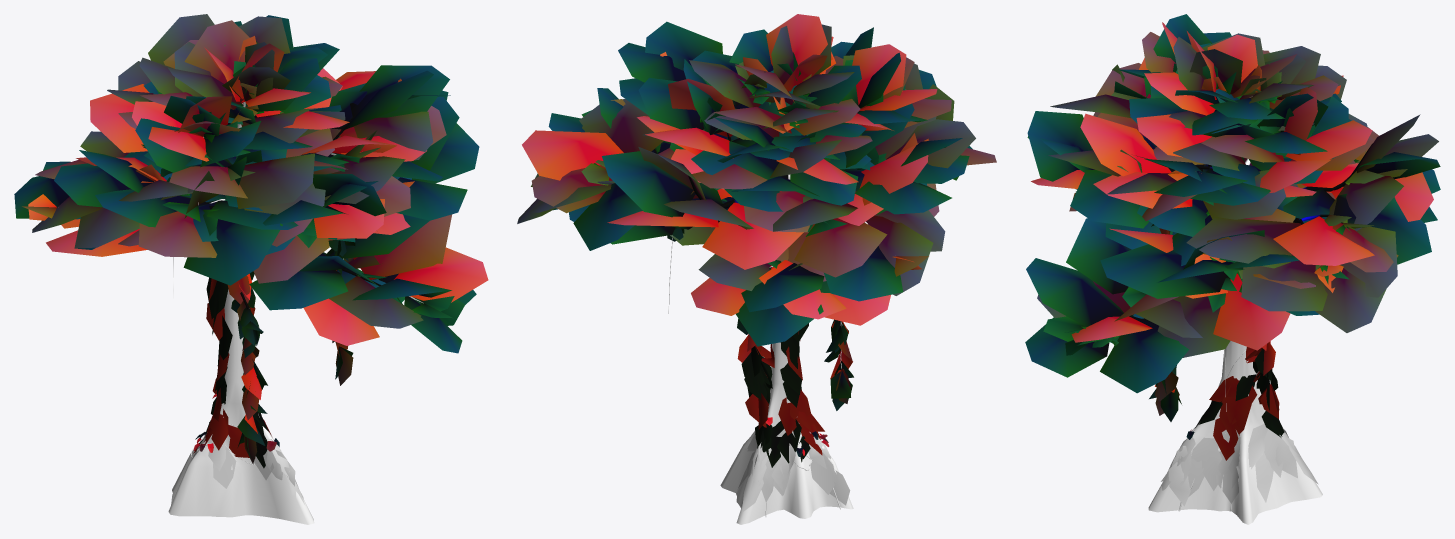
Rendered from KapokTree01_afsTREE_xlprl05_xef40_xmvcb_xlod01.fbx.
The picture shows the model from 3 angles, left to right: view 1: azimuth 30°, elevation 25°; view 2: azimuth 150°, elevation 25°; view 3: azimuth 270°, elevation 25°; orthographic projection.
Visible parts, largest first — view 1: trunk_xw03, leaf01.032, leaf01.153, leaf01.104, leaf01.033, leaf01.095, leaf01.120_xt20, leaf01.031, leaf01.092_xt20, leaf01.137, leaf01.055, leaf01.116 (+54 smaller); view 2: trunk_xw03, leaf01.069, leaf01.132, leaf01.015, leaf01.021_xt20, leaf01.076, leaf01.005_xt20, leaf01.004, leaf01.130_xt20, leaf01.008, leaf01.002, leaf01.121 (+54 smaller); view 3: trunk_xw03, leaf01.113, leaf01.094, leaf01.099, leaf01.130_xt20, leaf01.234, leaf01.117, leaf01.243, leaf01.108, leaf01.132, leaf01.236, leaf01.037 (+69 smaller).
Part boxes in pixels (bbox=[...]): trunk_xw03: bbox=[168, 101, 314, 524]; leaf01.032: bbox=[183, 206, 282, 285]; leaf01.153: bbox=[236, 153, 314, 208]; leaf01.104: bbox=[353, 214, 452, 279]; leaf01.033: bbox=[249, 270, 347, 310]; leaf01.095: bbox=[394, 247, 488, 302]; leaf01.120_xt20: bbox=[350, 65, 449, 117]; leaf01.031: bbox=[138, 211, 217, 257]; leaf01.092_xt20: bbox=[329, 276, 423, 328]; leaf01.137: bbox=[184, 20, 249, 103]; leaf01.055: bbox=[90, 84, 149, 152]; leaf01.116: bbox=[354, 111, 433, 160]; trunk_xw03: bbox=[720, 174, 853, 524]; leaf01.069: bbox=[602, 151, 695, 217]; leaf01.132: bbox=[522, 130, 623, 180]; leaf01.015: bbox=[794, 218, 887, 277]; leaf01.021_xt20: bbox=[702, 202, 803, 269]; leaf01.076: bbox=[573, 183, 642, 250]; leaf01.005_xt20: bbox=[824, 246, 903, 301]; leaf01.004: bbox=[741, 263, 824, 312]; leaf01.130_xt20: bbox=[579, 99, 663, 152]; leaf01.008: bbox=[864, 215, 933, 295]; leaf01.002: bbox=[736, 302, 823, 346]; leaf01.121: bbox=[642, 21, 722, 81]; trunk_xw03: bbox=[1148, 341, 1322, 524]; leaf01.113: bbox=[1100, 244, 1226, 298]; leaf01.094: bbox=[1100, 316, 1188, 393]; leaf01.099: bbox=[1026, 258, 1123, 326]; leaf01.130_xt20: bbox=[1186, 217, 1300, 268]; leaf01.234: bbox=[1241, 254, 1327, 311]; leaf01.117: bbox=[1080, 113, 1171, 176]; leaf01.243: bbox=[1213, 273, 1290, 350]; leaf01.108: bbox=[1027, 111, 1092, 189]; leaf01.132: bbox=[1273, 216, 1374, 265]; leaf01.236: bbox=[1315, 265, 1386, 332]; leaf01.037: bbox=[1066, 218, 1131, 294].
Size of what is drawn, in the model's own units: 51.01 by 45.84 by 56.31.
